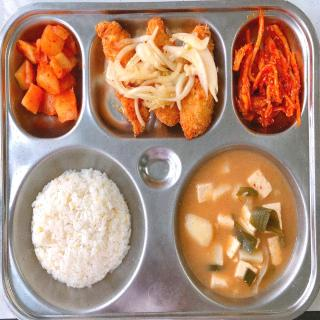Nasi: (33, 169, 131, 292)
